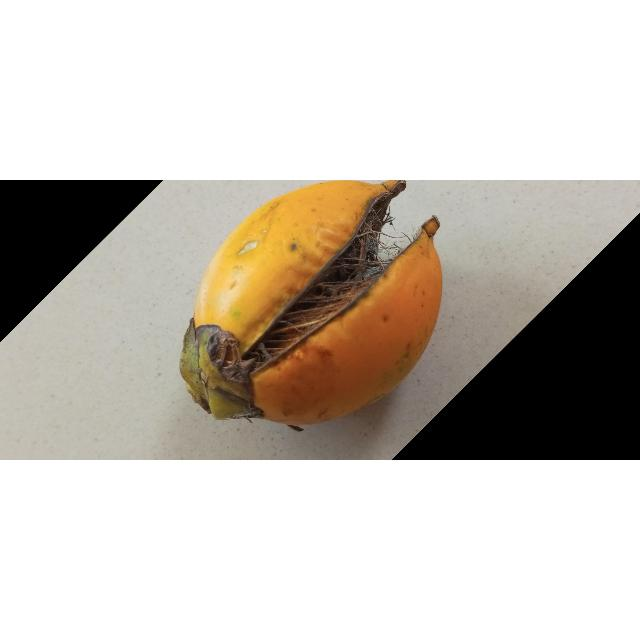damaged: (180, 180, 441, 427)
